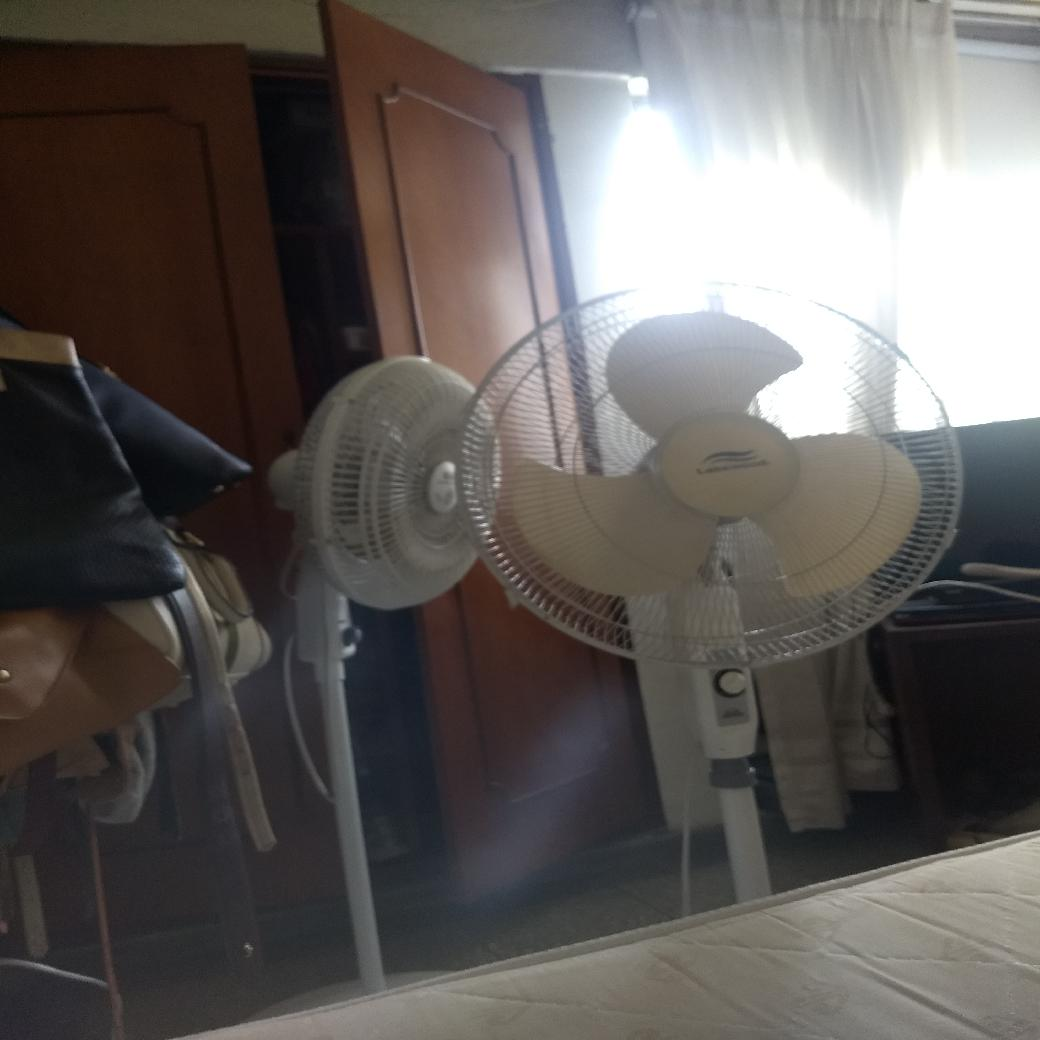ventilador: (448, 278, 967, 673), (270, 348, 494, 632)
